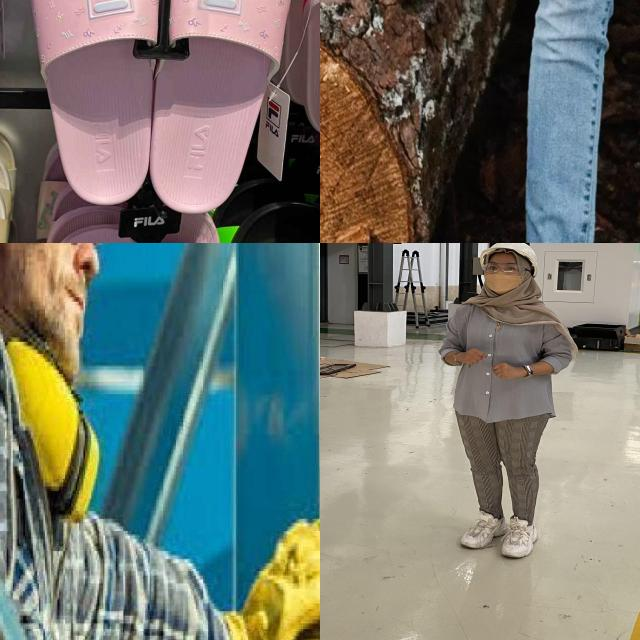Sandals: (12, 0, 285, 216)
face_mask: (481, 261, 525, 294)
face_nomask: (14, 243, 98, 381)
glasses: (481, 262, 534, 274)
hand_glove: (226, 520, 320, 640)
hand_noglove: (449, 344, 488, 370), (486, 358, 520, 385)
head_helmet: (432, 243, 573, 566), (476, 243, 542, 263)
shoes: (493, 510, 542, 560), (454, 508, 511, 550)
